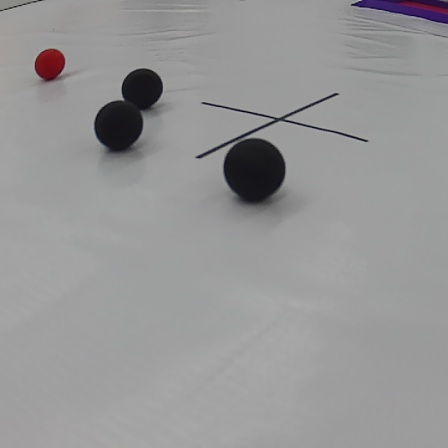black: (220, 136, 292, 202), (89, 99, 150, 152), (123, 68, 168, 105)
red: (29, 48, 71, 78)
red_aim: (353, 2, 448, 22)
